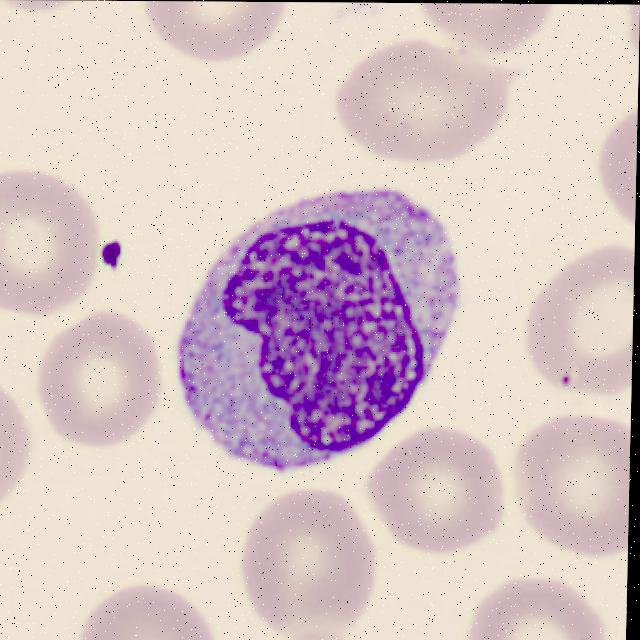monocyte: (153, 161, 470, 486)
rbc: (331, 32, 522, 185), (233, 484, 376, 640), (510, 235, 635, 399), (368, 421, 507, 561), (508, 415, 631, 570), (35, 306, 166, 449), (0, 148, 103, 328), (129, 1, 294, 89), (468, 567, 608, 640), (75, 577, 225, 640), (412, 3, 552, 53), (595, 92, 638, 230), (0, 354, 32, 524)
